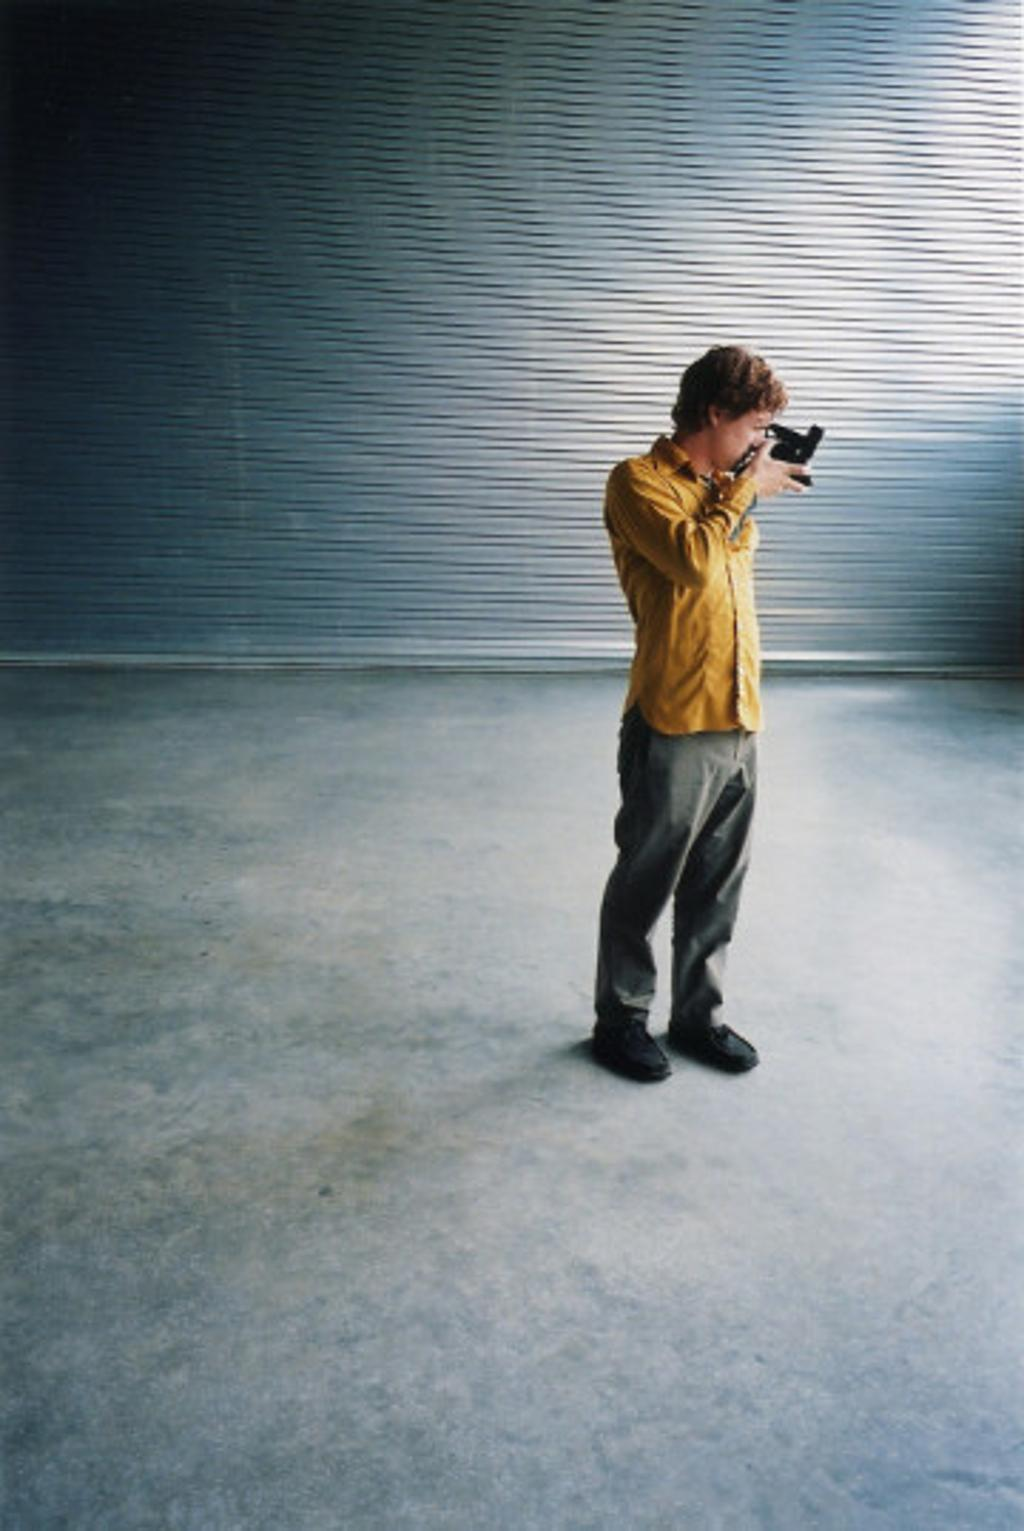face: (714, 397, 774, 487)
